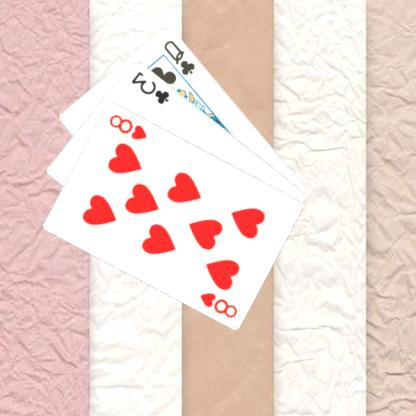3C: (130, 68, 173, 106)
8H: (108, 111, 150, 141), (198, 289, 240, 319)
QC: (162, 36, 198, 77)
